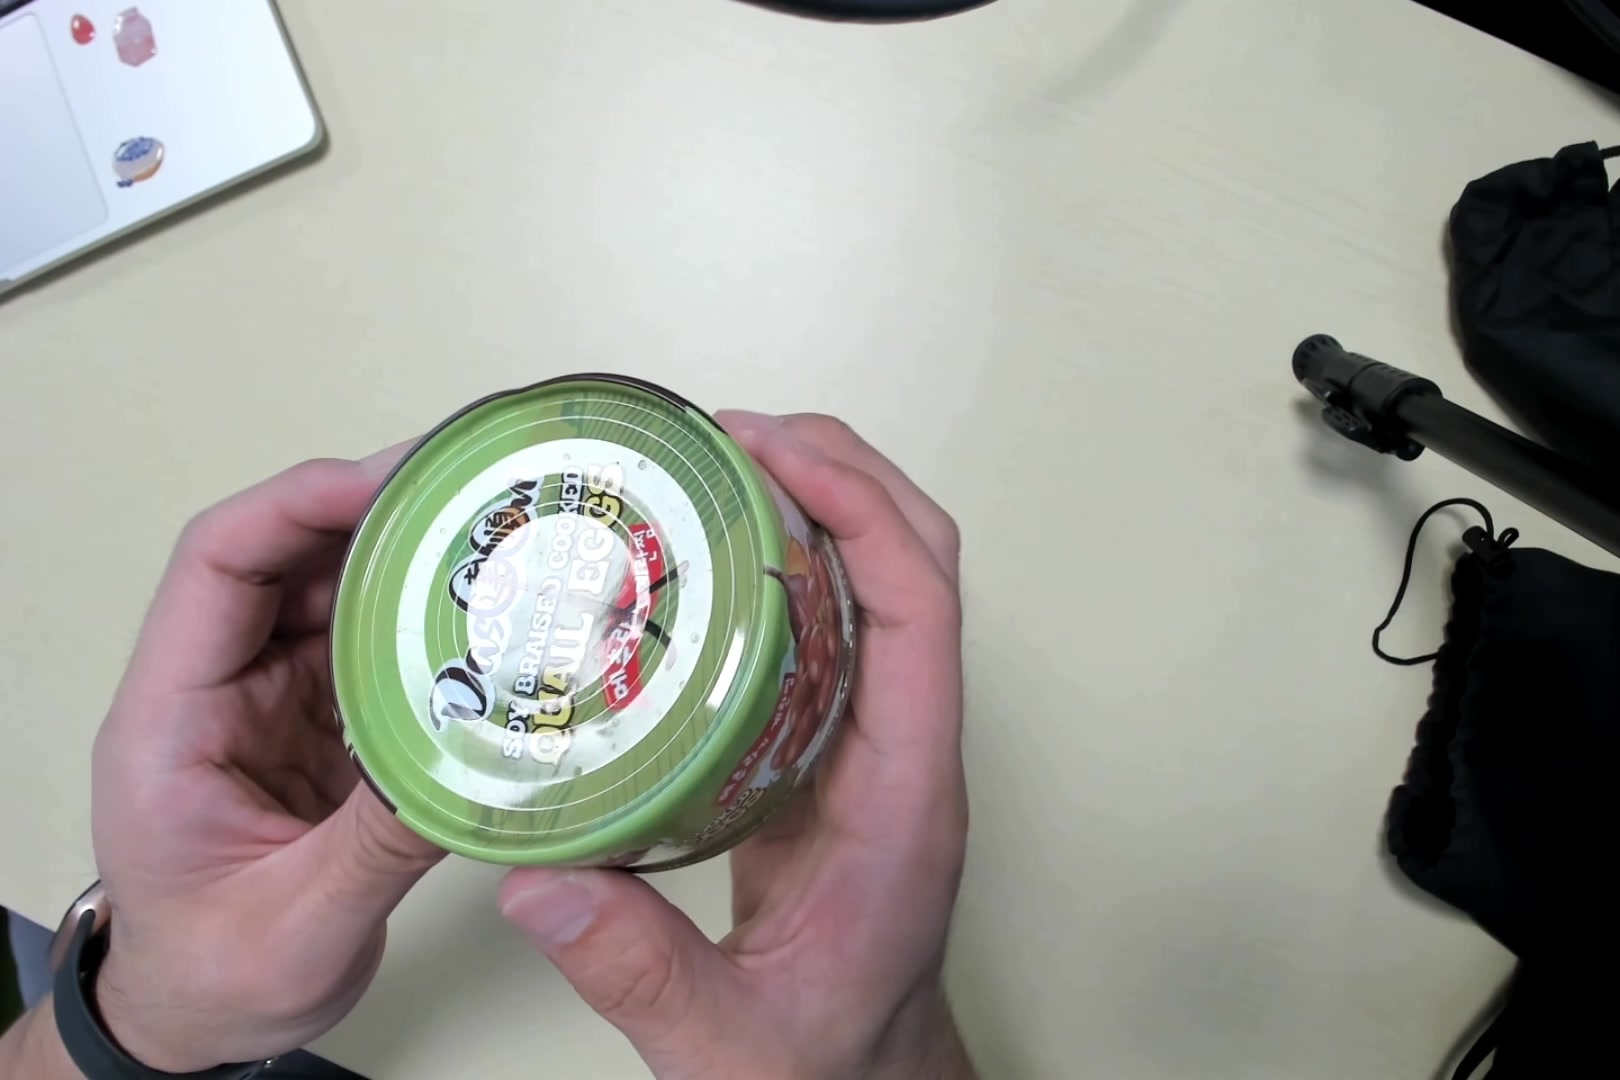CannedPorkLunchronMeat_100-199g_NonHalal_NonHealthy: (334, 372, 850, 869)
